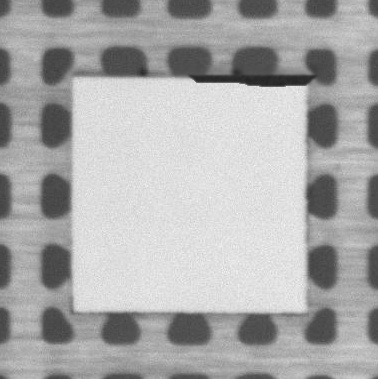DIE_BROKEN: (190, 69, 320, 87)
